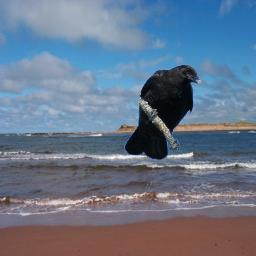Crow: (124, 64, 202, 161)
